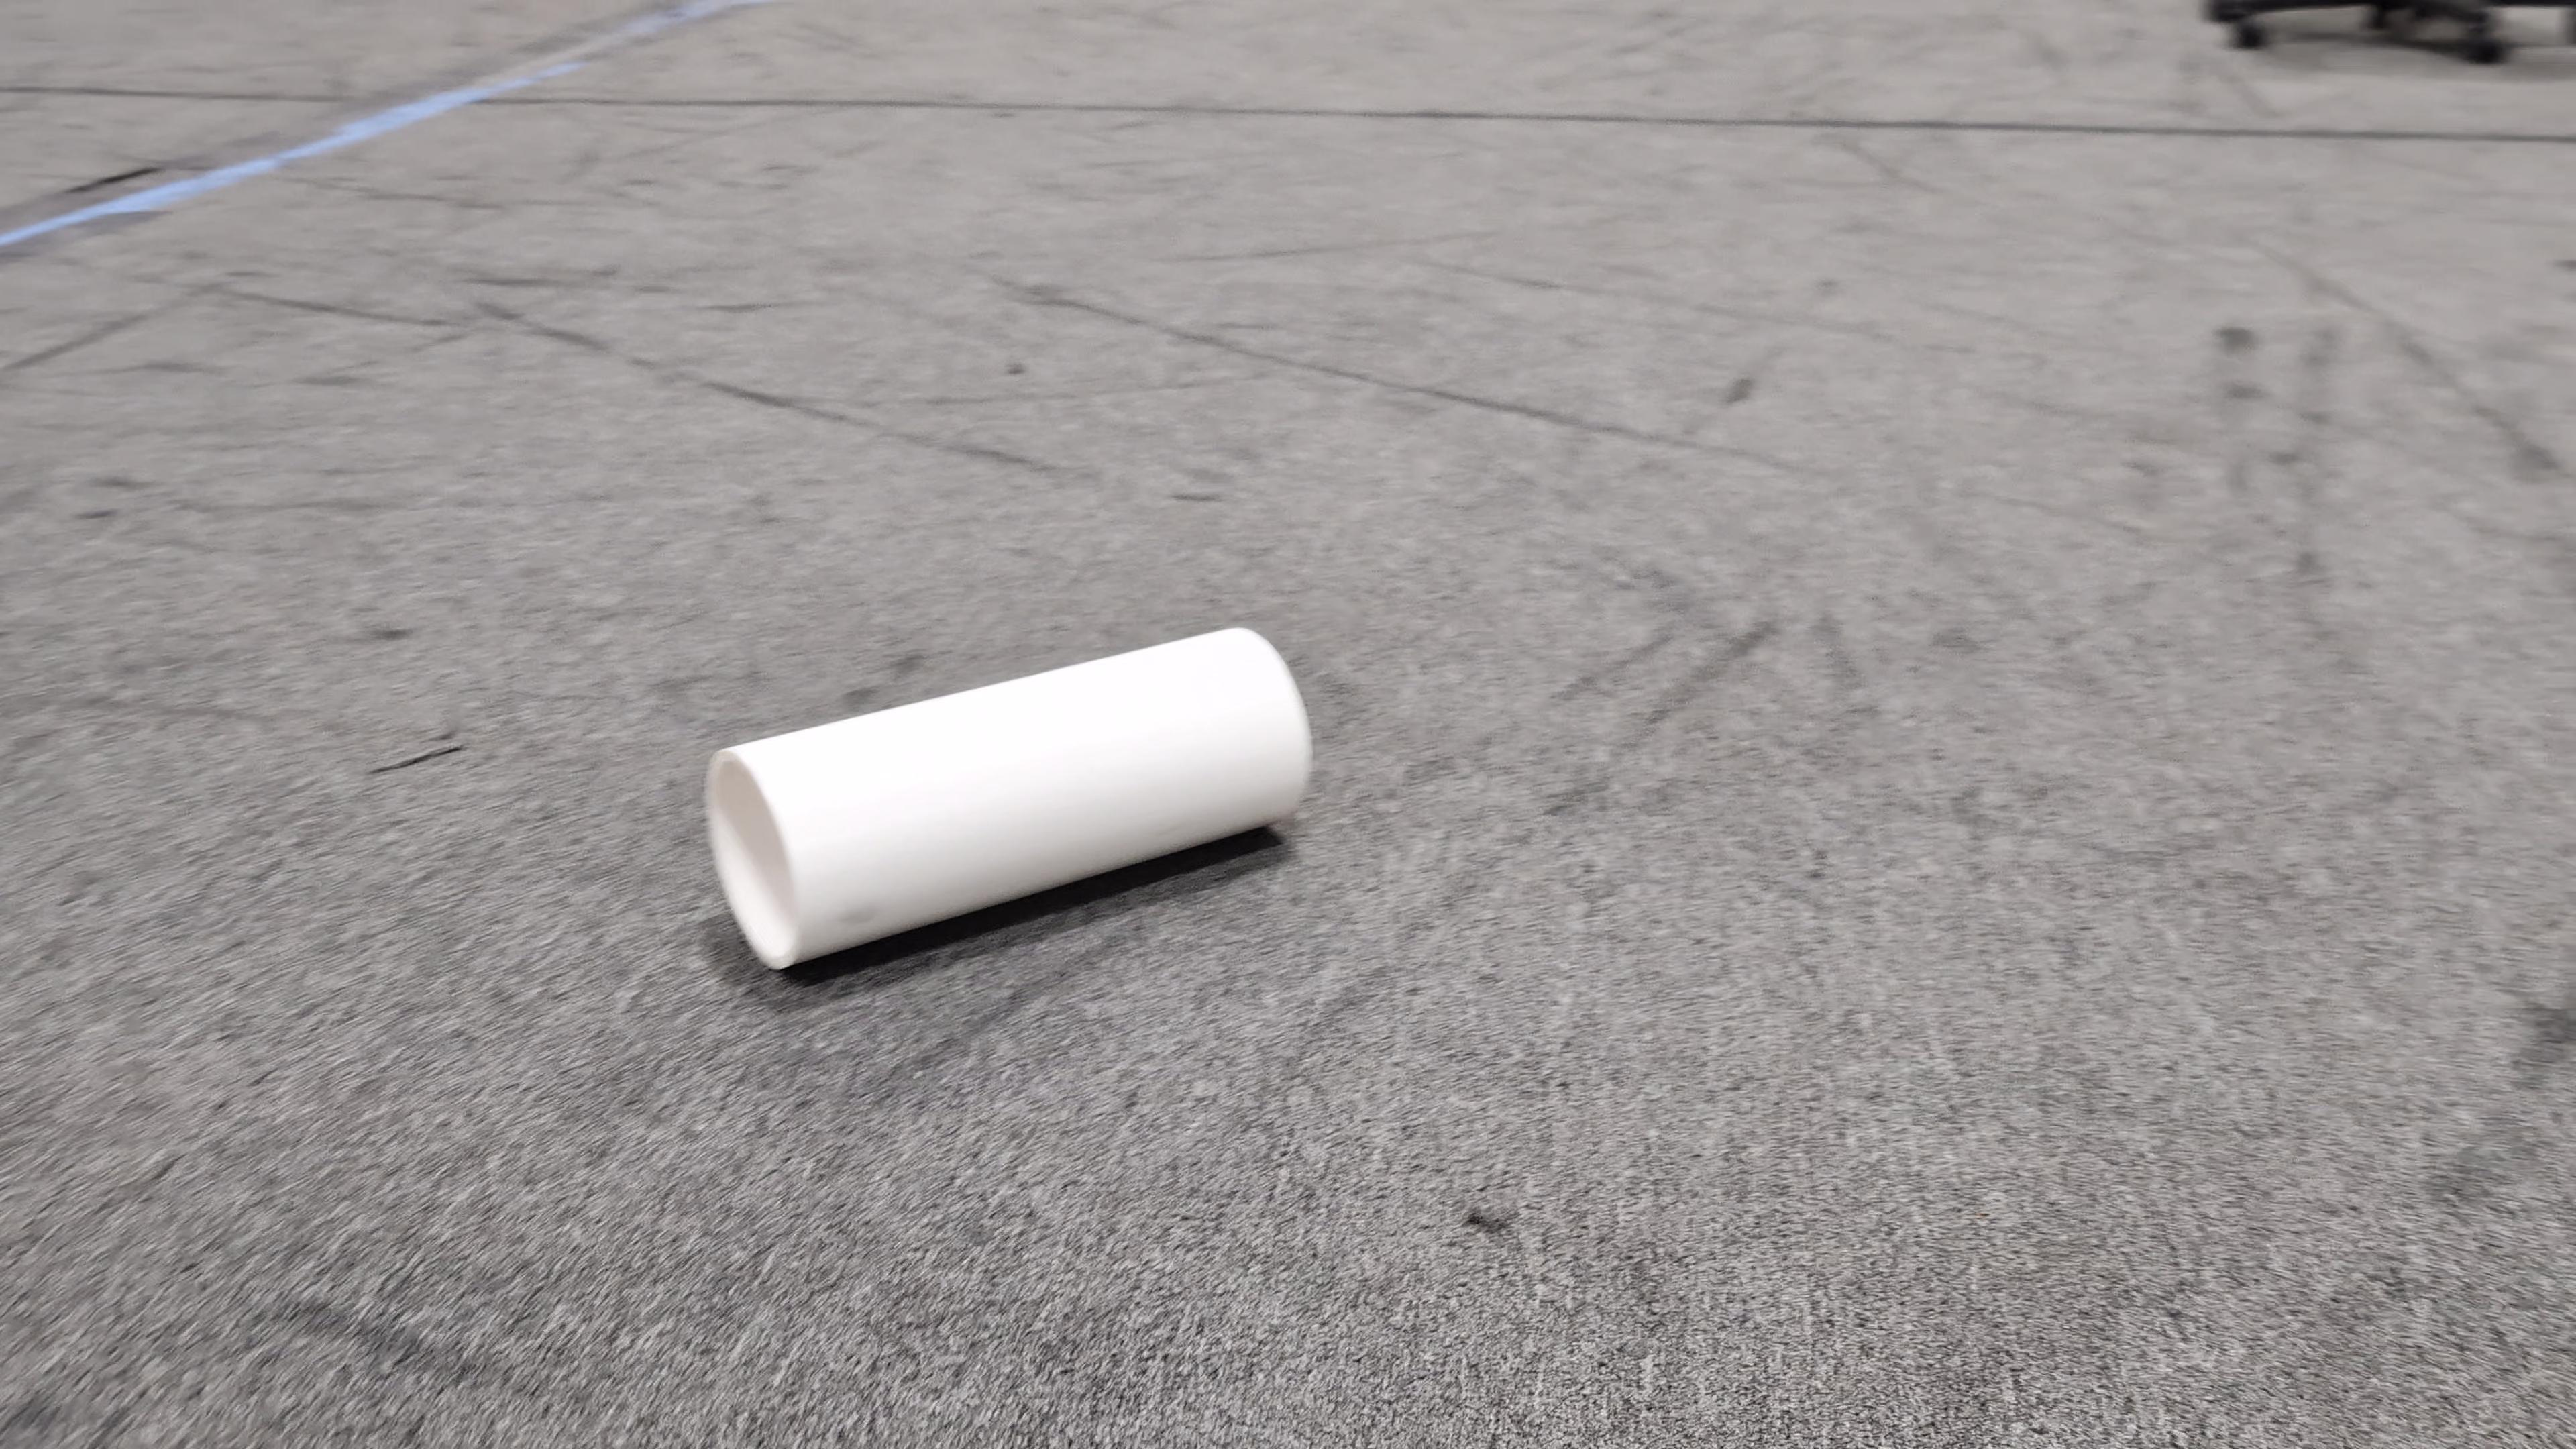coral: (706, 621, 1315, 971)
